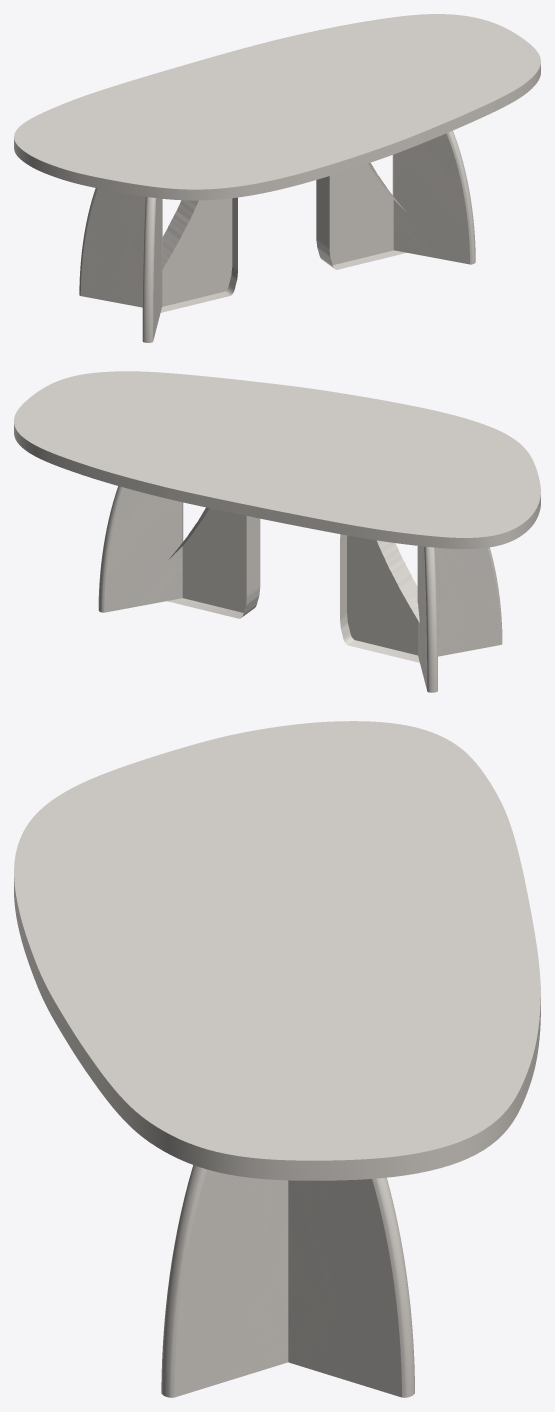
File: pearlwhite_leaf2_standard_plane.glb
The picture shows the model from 3 angles, top to bottom: view 1: azimuth 30°, elevation 25°; view 2: azimuth 150°, elevation 25°; view 3: azimuth 270°, elevation 25°; orthographic projection. The views are drawn at different scales.
Visible parts, largest first — view 1: standard_leaf2, plane_singleright2, plane_single1, plane_single2, plane_singleleft1, plane_singleright1; view 2: standard_leaf2, plane_singleleft2, plane_single1, plane_single2, plane_singleright1, plane_singleleft1; view 3: standard_leaf2, plane_singleright2, plane_singleleft2.
Part boxes in pixels (left/top/right/bottom): standard_leaf2: left=14, top=14, right=540, bottom=200; plane_singleright2: left=393, top=130, right=475, bottom=264; plane_single1: left=160, top=197, right=237, bottom=312; plane_single2: left=316, top=162, right=406, bottom=269; plane_singleleft1: left=79, top=188, right=162, bottom=307; plane_singleright1: left=142, top=197, right=162, bottom=342; standard_leaf2: left=14, top=371, right=540, bottom=548; plane_singleleft2: left=98, top=486, right=183, bottom=612; plane_single1: left=340, top=534, right=419, bottom=662; plane_single2: left=167, top=507, right=260, bottom=618; plane_singleright1: left=417, top=546, right=502, bottom=656; plane_singleleft1: left=418, top=546, right=437, bottom=692; standard_leaf2: left=14, top=721, right=540, bottom=1180; plane_singleright2: left=161, top=1165, right=288, bottom=1397; plane_singleleft2: left=288, top=1177, right=414, bottom=1397.
Bounding box in the file's own units: 7.5 × 2.51 × 3.8.
1 material, 1 textured.
